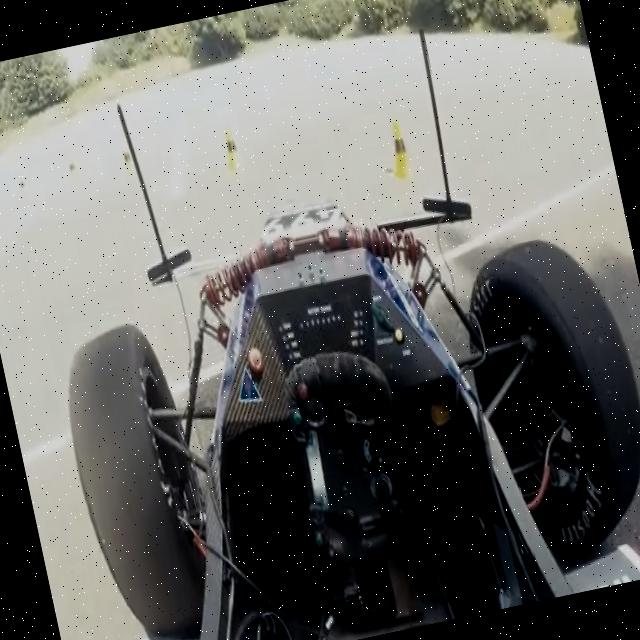yellow_cone: (374, 107, 420, 189), (216, 124, 252, 182)
